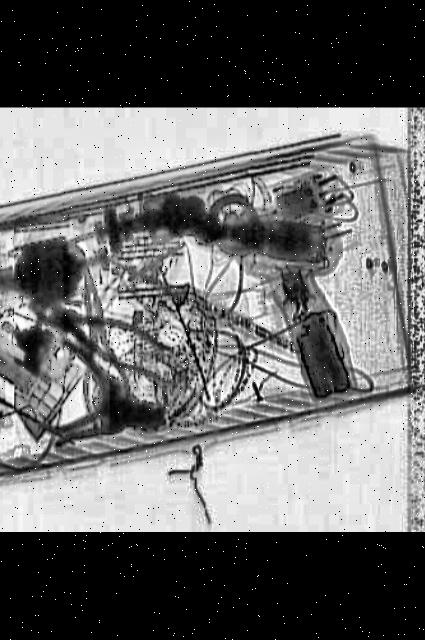Pliers: (34, 295, 195, 386), (65, 263, 140, 430)
